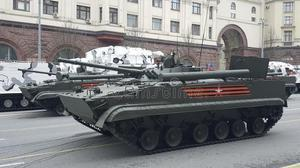bmp: (66, 66, 291, 144)
